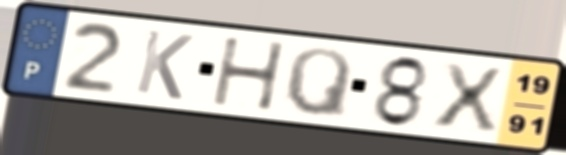2: (60, 21, 128, 97)
8: (370, 51, 432, 131)
H: (209, 35, 289, 114)
K: (132, 27, 198, 103)
Q: (281, 45, 355, 122)
X: (430, 59, 507, 134)
